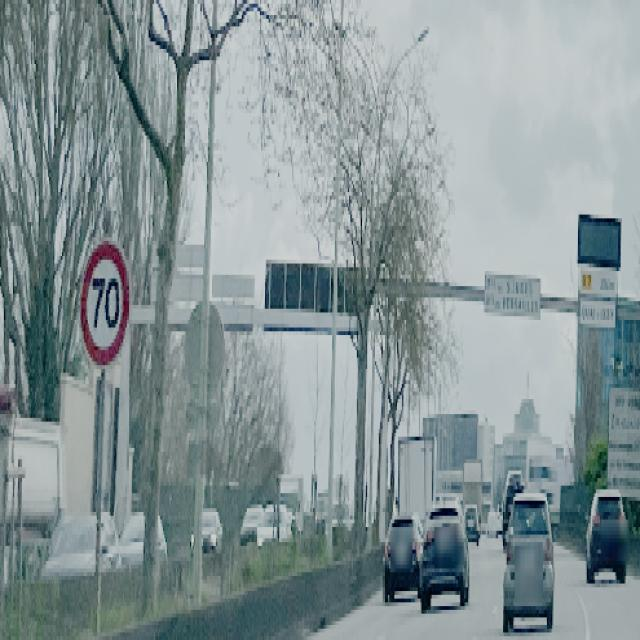speed_70: (78, 240, 130, 366)
